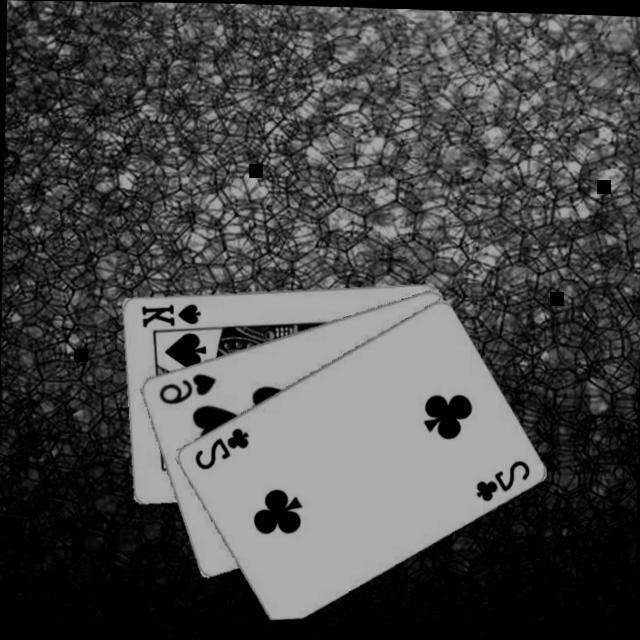2C: (191, 419, 252, 472), (472, 452, 533, 502)
9H: (155, 365, 219, 405)
KS: (138, 296, 204, 328)
